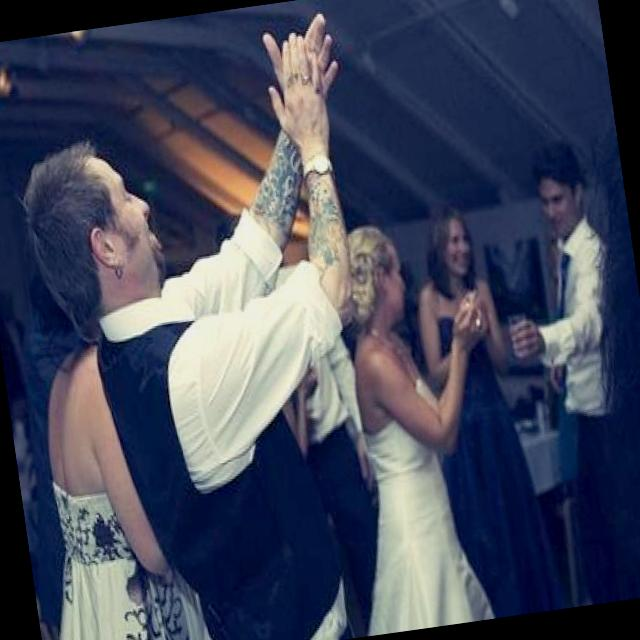no_vest: (88, 274, 361, 640), (341, 351, 476, 635), (520, 222, 622, 424)
